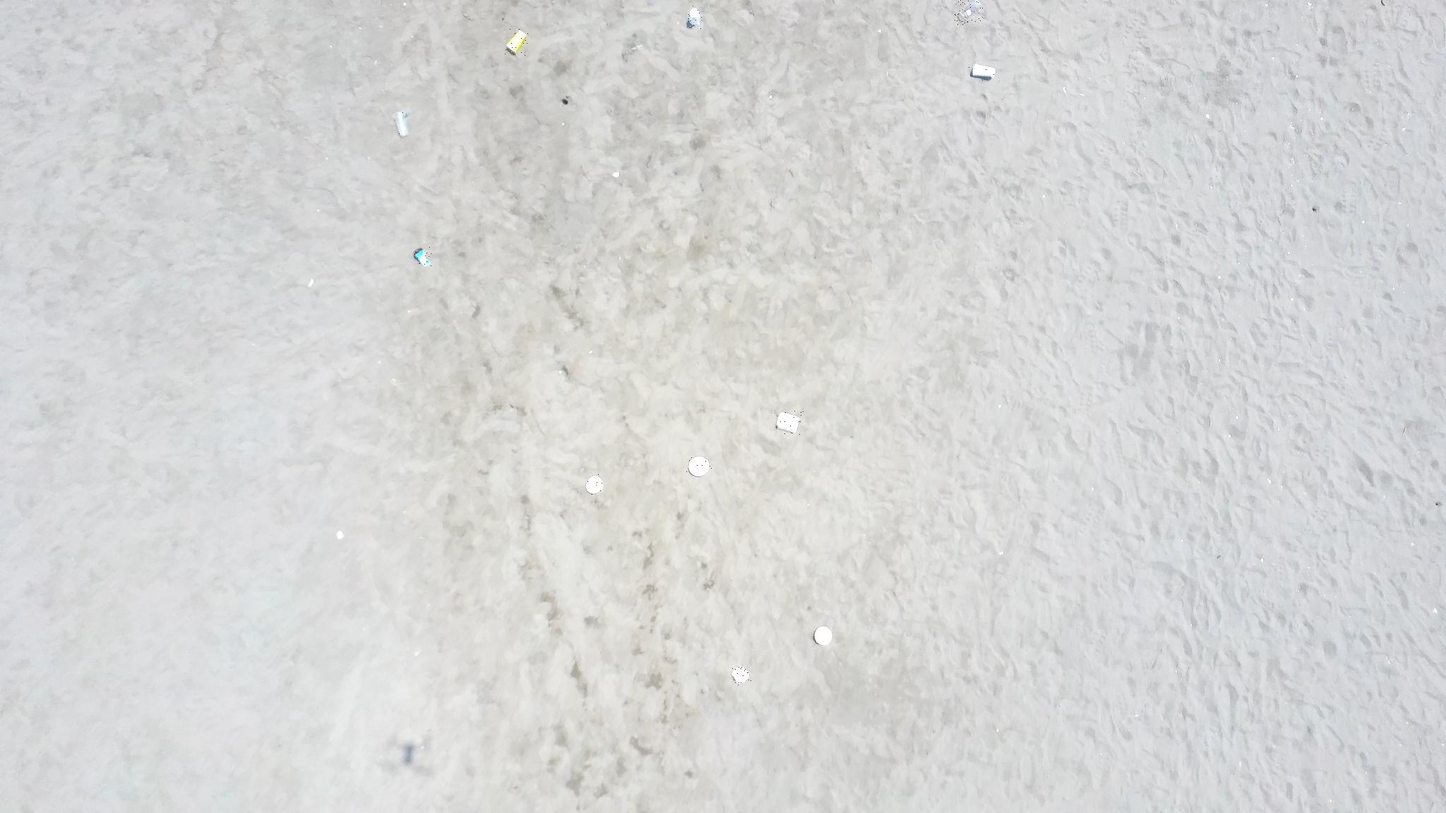Garbage: (955, 0, 984, 23), (775, 411, 798, 433), (507, 30, 526, 54), (688, 456, 708, 476), (970, 63, 994, 78), (730, 666, 749, 684), (813, 626, 832, 644), (395, 110, 408, 136), (960, 0, 981, 16), (585, 476, 602, 494), (413, 248, 429, 266), (687, 8, 700, 27), (307, 277, 313, 287), (612, 171, 619, 178), (561, 96, 568, 103), (336, 531, 342, 538)
